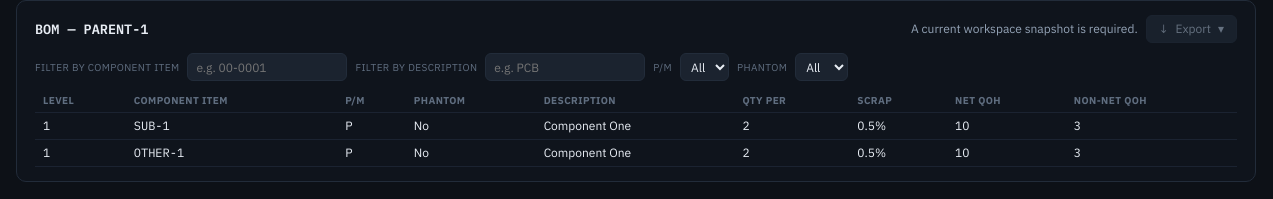
Test: BomPanel › search › clearing the search restores the complete sequence
The image size is (1273, 199).
In the field labelled "Filter by Component Item": point(267, 67) [187, 53, 347, 81], type "sub"
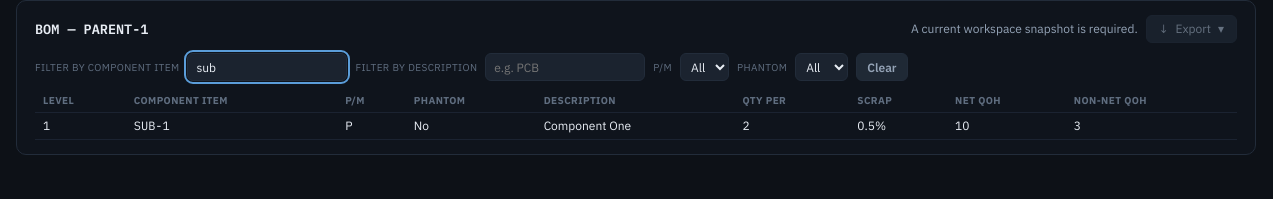
Click the button "Clear": point(882, 67) [856, 53, 908, 81]
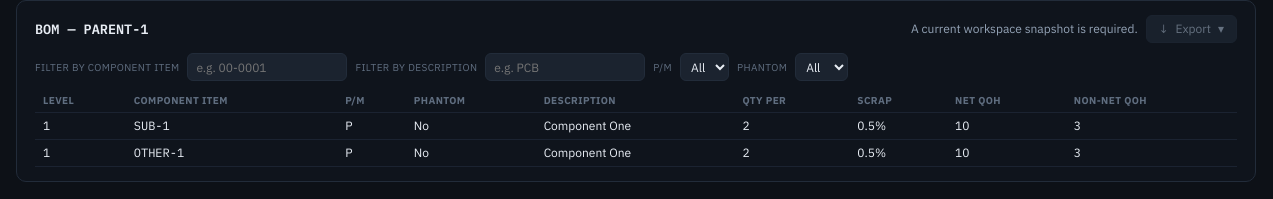
Expected: the field labelled "Filter by Component Item" is empty, [187, 53, 347, 81]
